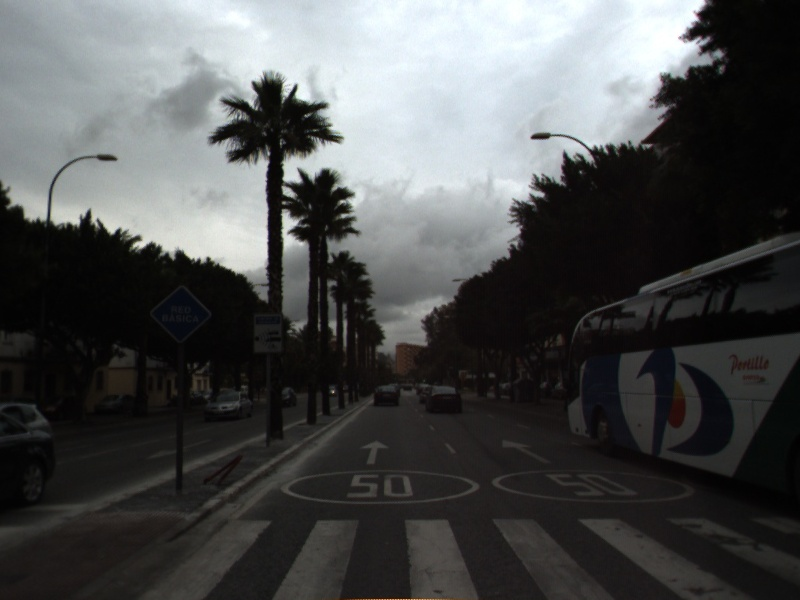STRAIGHT: (499, 437, 554, 466), (358, 438, 392, 466)
